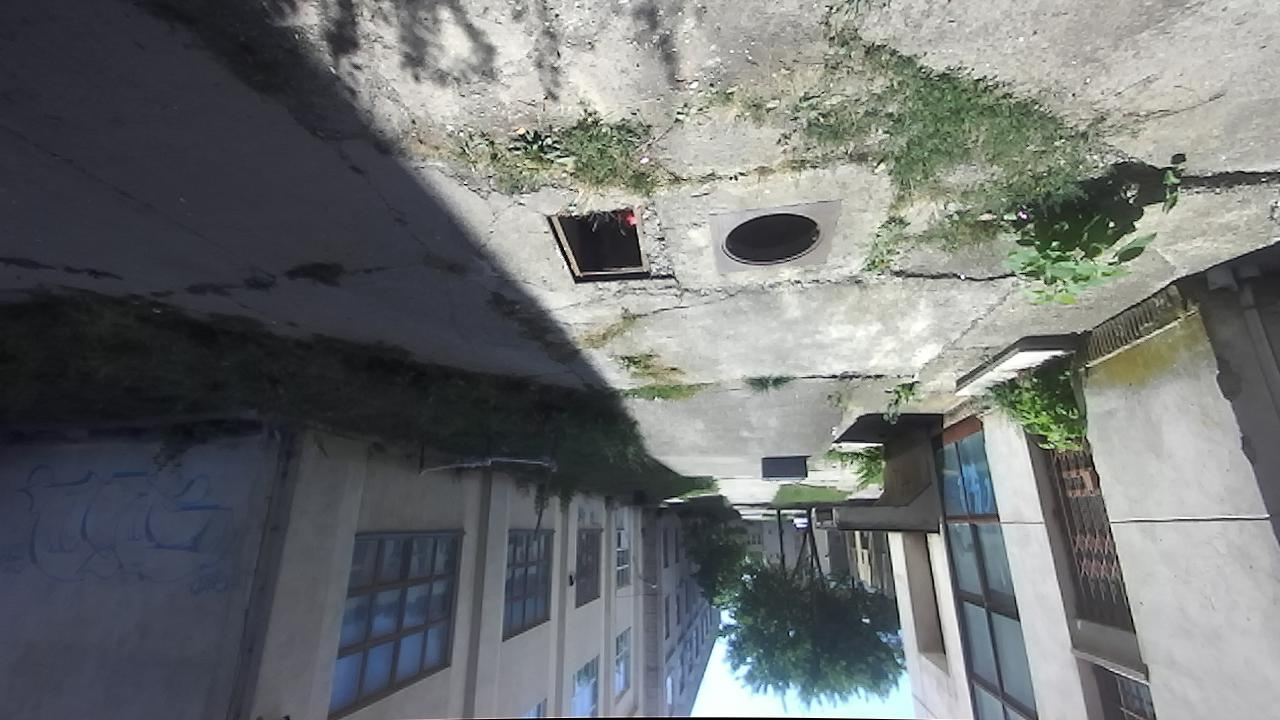drain: (538, 201, 653, 287), (709, 209, 828, 269)
